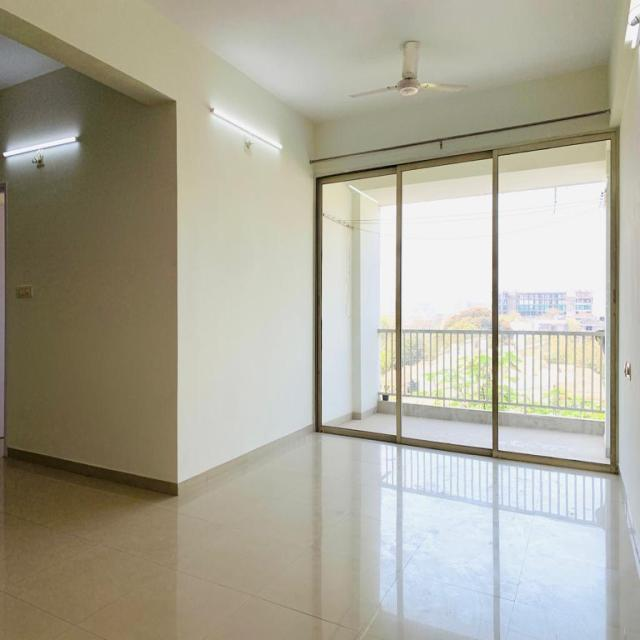floor: (0, 424, 640, 640), (498, 425, 611, 463), (401, 415, 492, 448), (332, 411, 397, 435)
wall: (0, 67, 177, 483), (313, 65, 610, 160), (313, 114, 610, 175), (618, 44, 640, 555), (322, 182, 353, 424), (360, 194, 381, 413), (609, 0, 633, 114), (353, 194, 361, 413)
